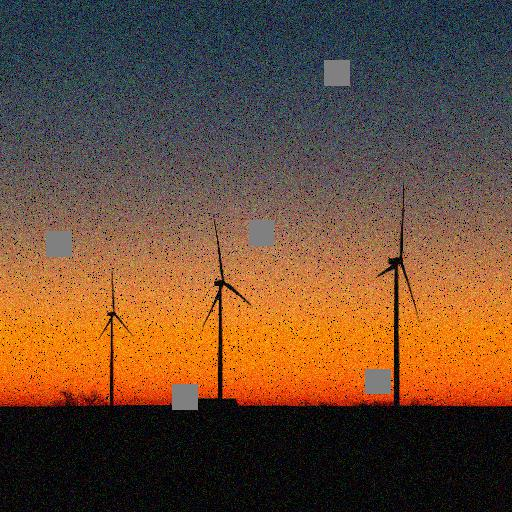wind turbine: (202, 218, 252, 407), (377, 183, 419, 407), (96, 270, 134, 405)
